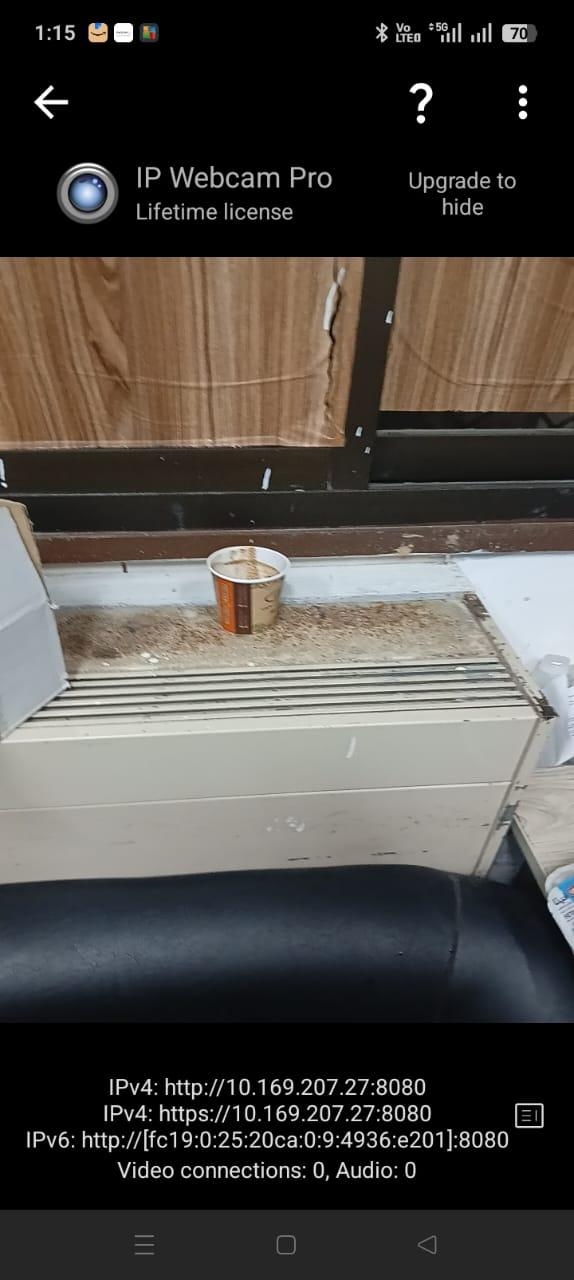cup: (207, 546, 289, 633)
